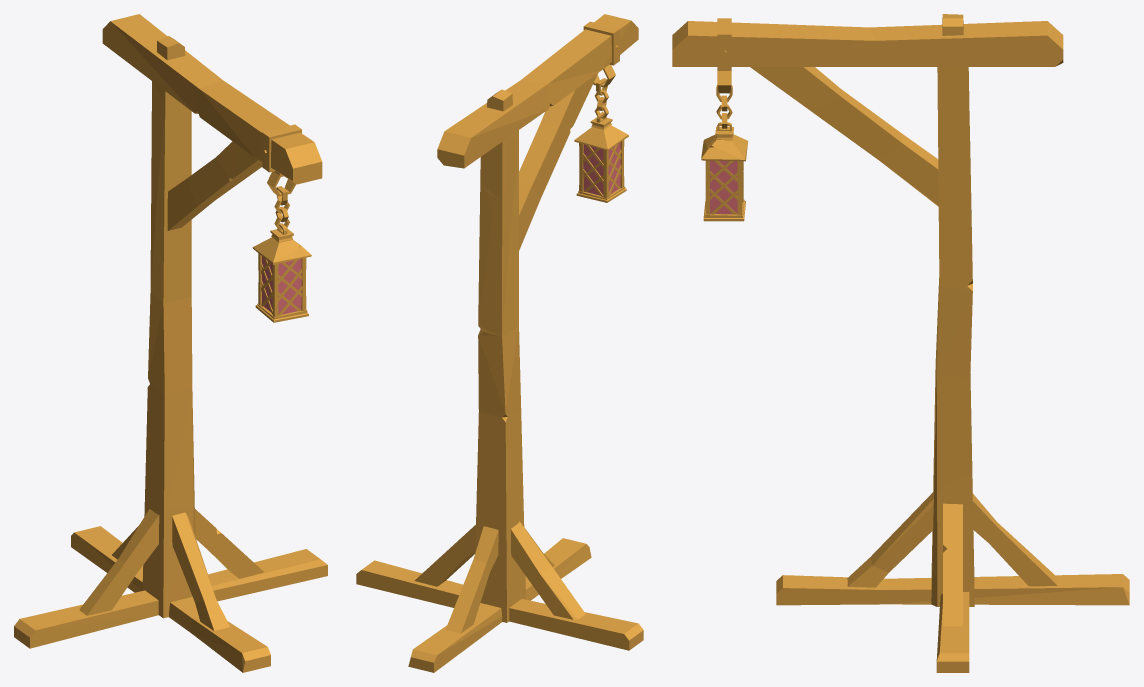
The model's file is lantern-street-movable-halloween.fbx.
3 views of the same model, side by side, from view 1: azimuth 30°, elevation 25°; view 2: azimuth 150°, elevation 25°; view 3: azimuth 270°, elevation 25° (orthographic). The views are drawn at different scales.
Visible parts, largest first — view 1: lantern-street-movable-halloween; view 2: lantern-street-movable-halloween; view 3: lantern-street-movable-halloween.
Part boxes in pixels (x1,y1,x2,y2): lantern-street-movable-halloween: (14,14,327,672); lantern-street-movable-halloween: (356,14,643,672); lantern-street-movable-halloween: (672,14,1129,672).
Bounding box in the file's own units: 1.78 × 3.24 × 2.31.
